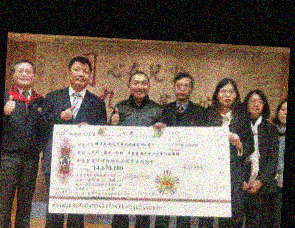without_mask: (68, 65, 90, 87), (12, 66, 34, 86), (128, 78, 148, 98), (216, 88, 237, 106), (172, 81, 192, 99), (245, 98, 264, 115), (276, 105, 286, 123)
